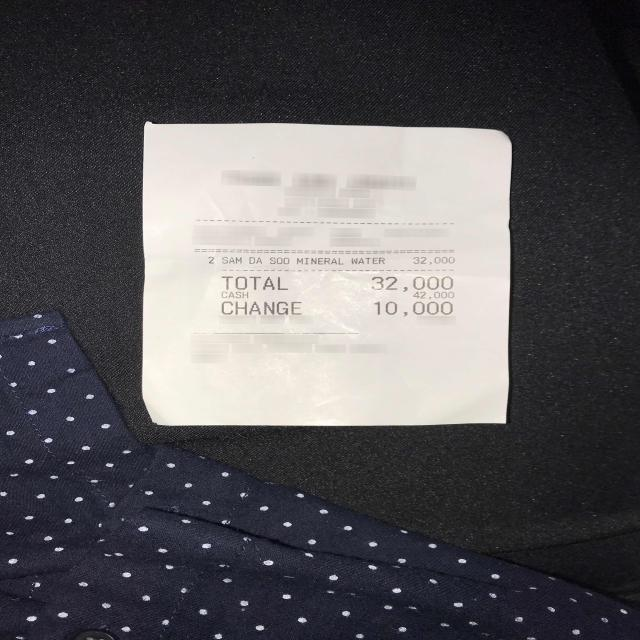kertas: (142, 122, 511, 428)
